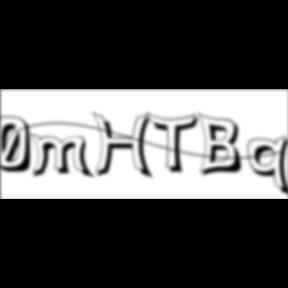0: (1, 115, 40, 174)
B: (198, 111, 248, 179)
H: (92, 112, 158, 182)
T: (147, 112, 205, 176)
m: (29, 132, 97, 181)
